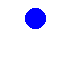circle: (25, 8, 45, 28)
